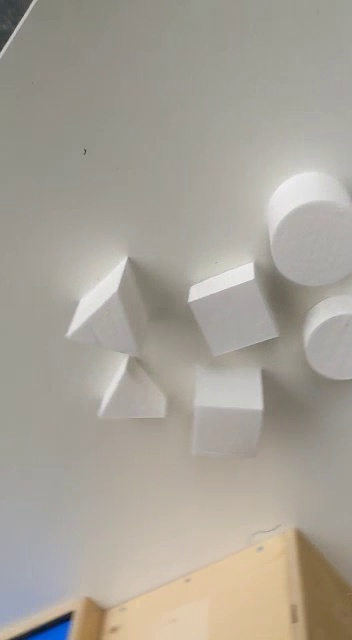Clyinder_short: (299, 292, 352, 382)
Cube: (186, 358, 266, 465)
Cube_short: (186, 257, 288, 363)
Cylinder: (263, 169, 352, 292)
Triangle: (64, 256, 159, 363)
Triangle_short: (93, 348, 170, 423)
